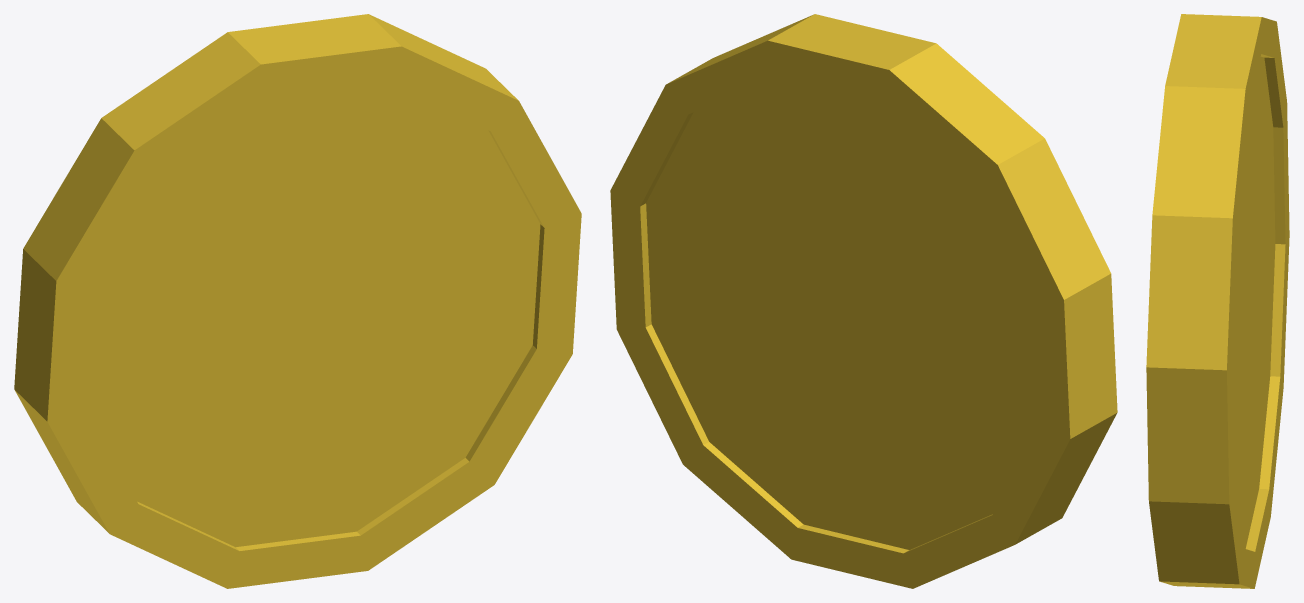
The model's file is coin.fbx.
The picture shows the model from 3 angles, left to right: view 1: azimuth 30°, elevation 25°; view 2: azimuth 150°, elevation 25°; view 3: azimuth 270°, elevation 25°; orthographic projection. The views are drawn at different scales.
Parts seen in each view (by area): view 1: Cylinder; view 2: Cylinder; view 3: Cylinder.
Part boxes in pixels (x1,y1,x2,y2): Cylinder: [14, 14, 581, 588]; Cylinder: [610, 14, 1117, 588]; Cylinder: [1146, 14, 1289, 588].
Bounding box in the file's own units: 198 × 196 × 48.7.
